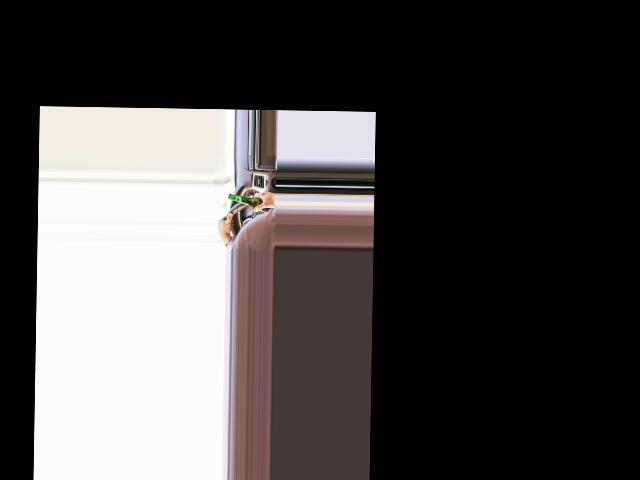beer: (227, 192, 274, 213)
